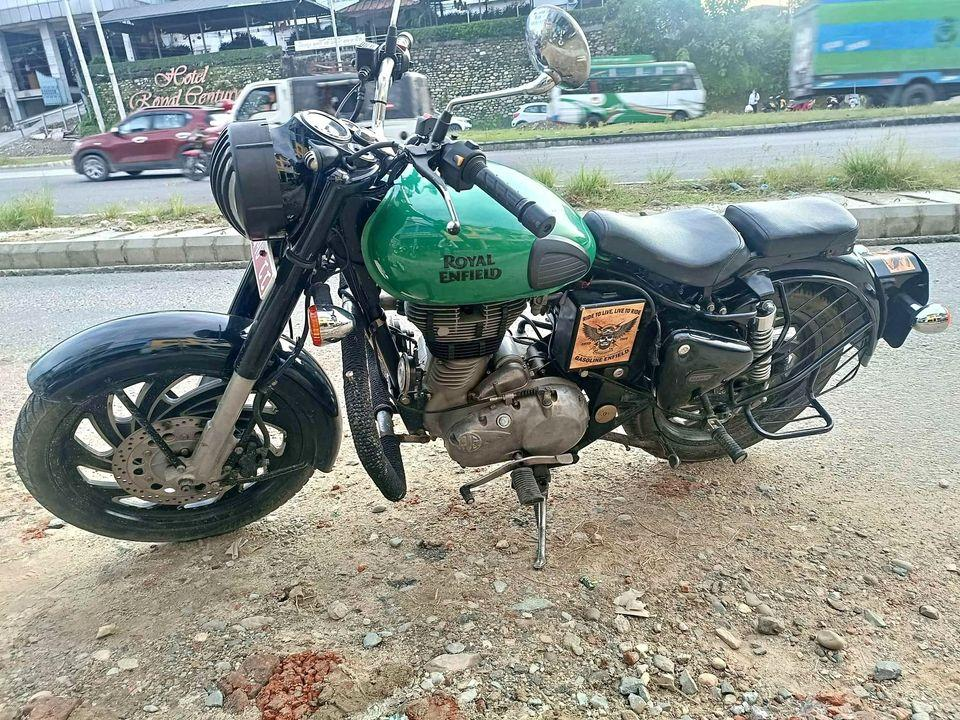bike: (8, 34, 949, 564)
